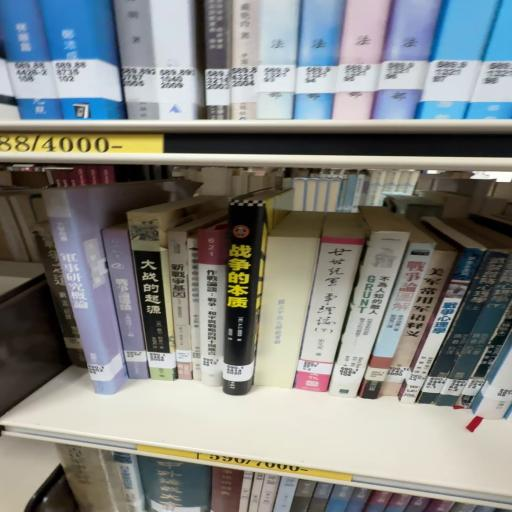backward: (258, 220, 327, 393)
book: (367, 247, 461, 408), (327, 235, 411, 405), (296, 219, 369, 398), (225, 198, 269, 390), (102, 225, 151, 380), (133, 239, 179, 383)
